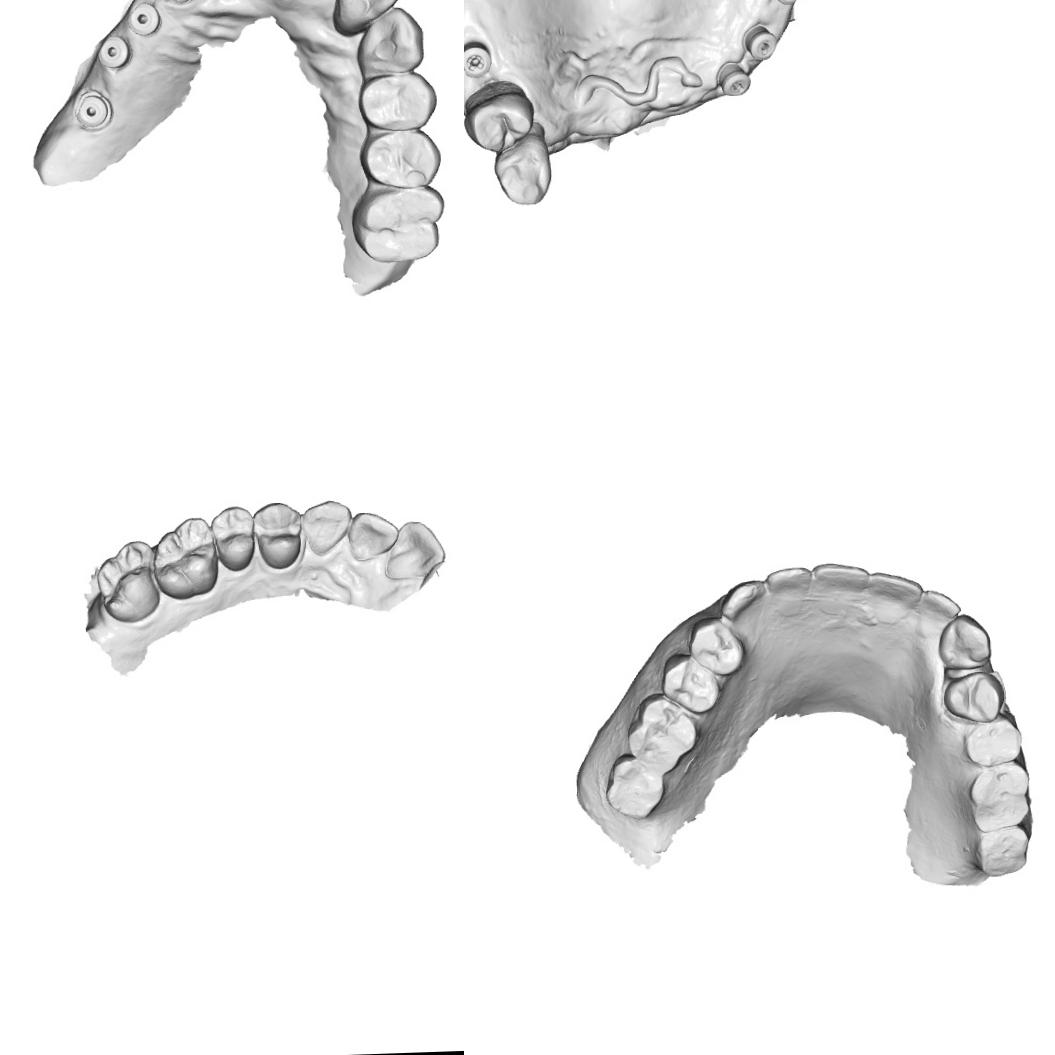canine: (353, 5, 426, 78), (490, 132, 554, 208), (936, 612, 993, 672), (298, 496, 353, 558), (718, 579, 770, 622)
implant: (69, 92, 115, 131), (98, 33, 134, 69), (128, 1, 162, 38)
implant_minus: (740, 21, 779, 61), (715, 60, 752, 97)
implant_plus: (464, 39, 493, 80)
incisor: (380, 518, 448, 582), (346, 509, 401, 564), (868, 569, 924, 606), (811, 560, 869, 591), (333, 0, 401, 26), (766, 560, 812, 596), (922, 586, 962, 620)
molar: (349, 183, 451, 265), (150, 515, 220, 602), (92, 538, 161, 626), (625, 691, 700, 766), (968, 762, 1034, 832), (603, 751, 666, 821), (972, 824, 1032, 879)
premolar: (357, 129, 444, 190), (357, 71, 438, 131), (464, 87, 536, 153), (660, 651, 722, 715), (250, 499, 304, 572), (686, 615, 746, 677), (940, 670, 1008, 724), (208, 504, 256, 574), (962, 719, 1024, 768)
